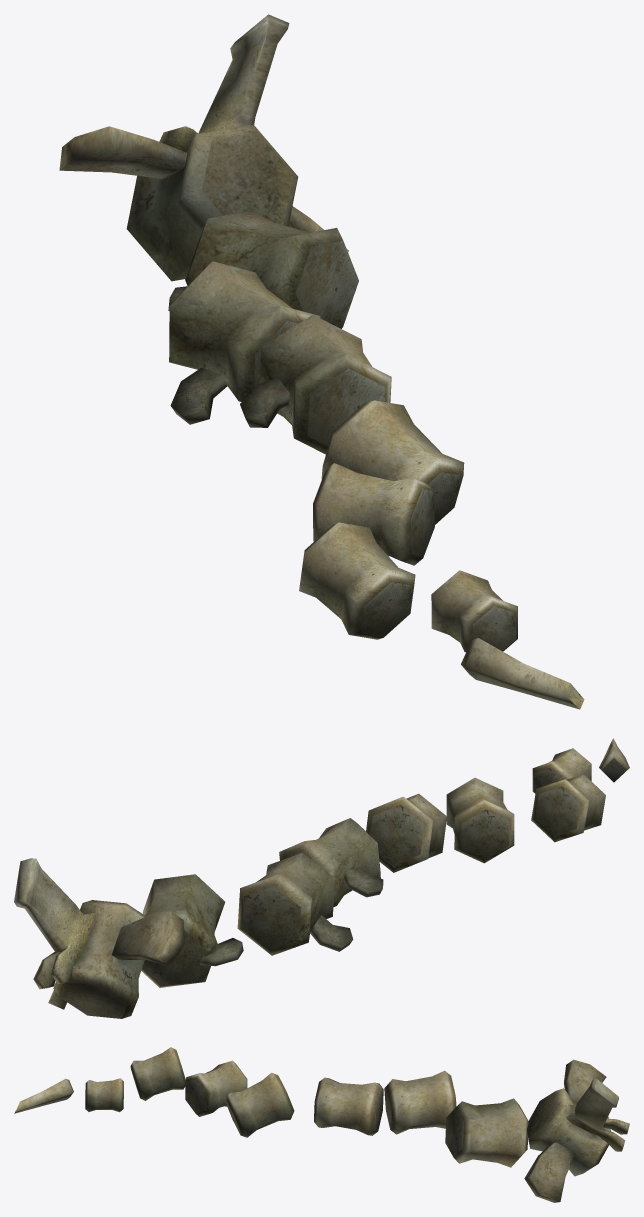
The model's file is bone_whale_tail01.fbx.
The picture shows the model from 3 angles, top to bottom: view 1: azimuth 30°, elevation 25°; view 2: azimuth 150°, elevation 25°; view 3: azimuth 270°, elevation 25°; orthographic projection. The views are drawn at different scales.
Parts seen in each view (by area): view 1: bone_whale_tail01; view 2: bone_whale_tail01; view 3: bone_whale_tail01.
Part boxes in pixels (x1,y1,x2,y2): bone_whale_tail01: [59, 14, 584, 709]; bone_whale_tail01: [14, 738, 629, 1018]; bone_whale_tail01: [14, 1047, 629, 1202].
Bounding box in the file's own units: 7.64 × 4.49 × 19.98.
